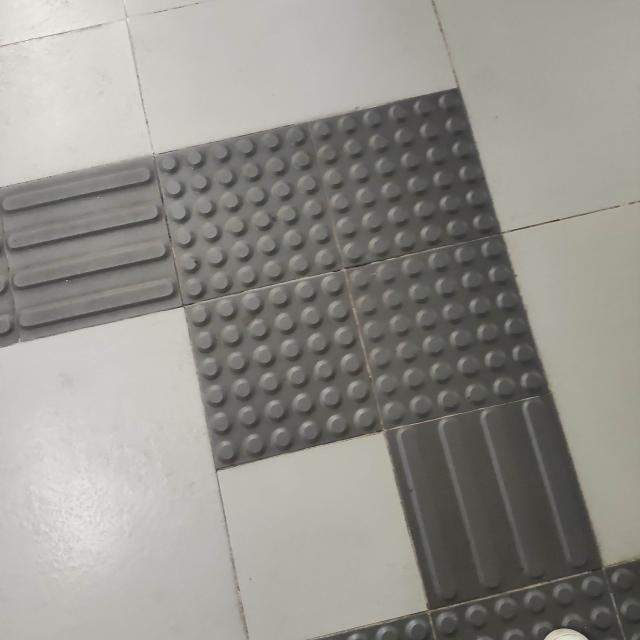kiri: (0, 59, 636, 546)
